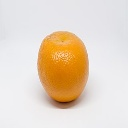orange: (35, 29, 90, 106)
